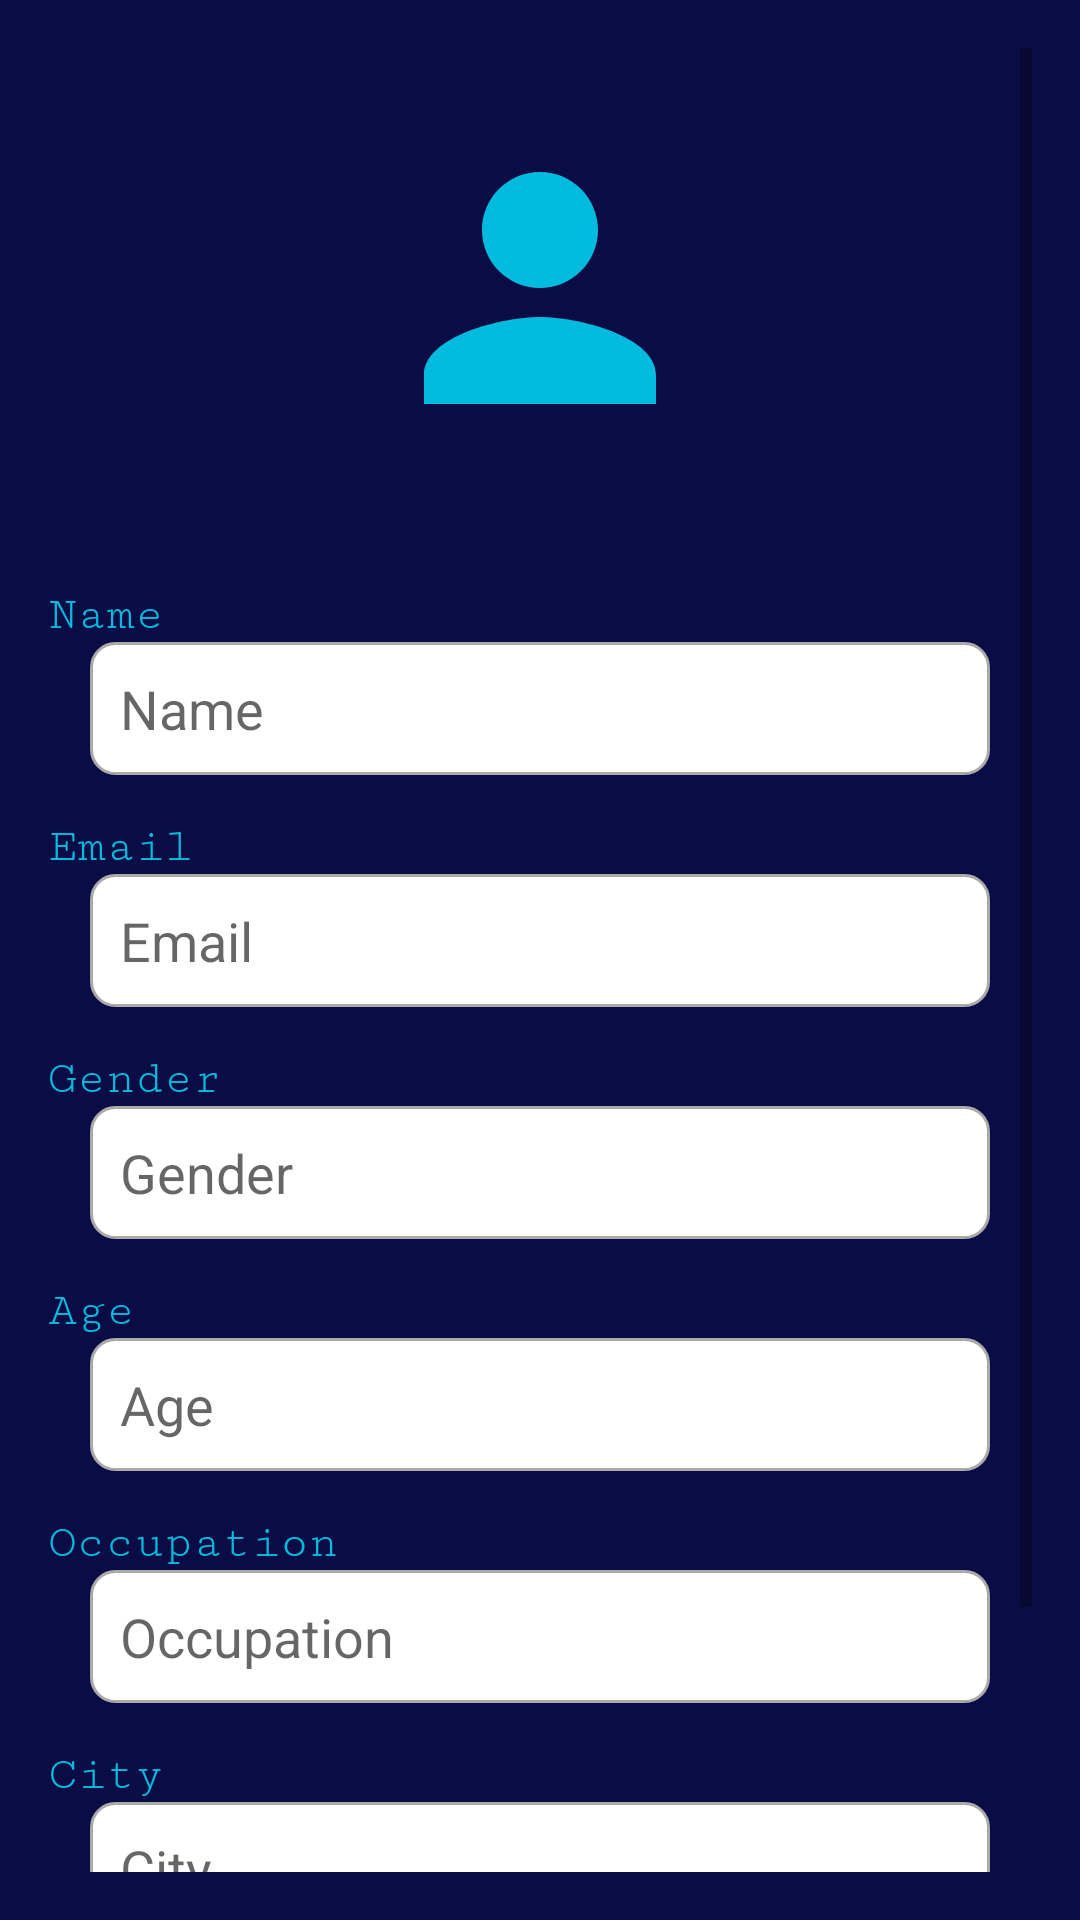

Icons on this 1080x1920 Android screen, each with its box as (x1, y1, x2, y2):
person: (424, 172, 656, 404)
